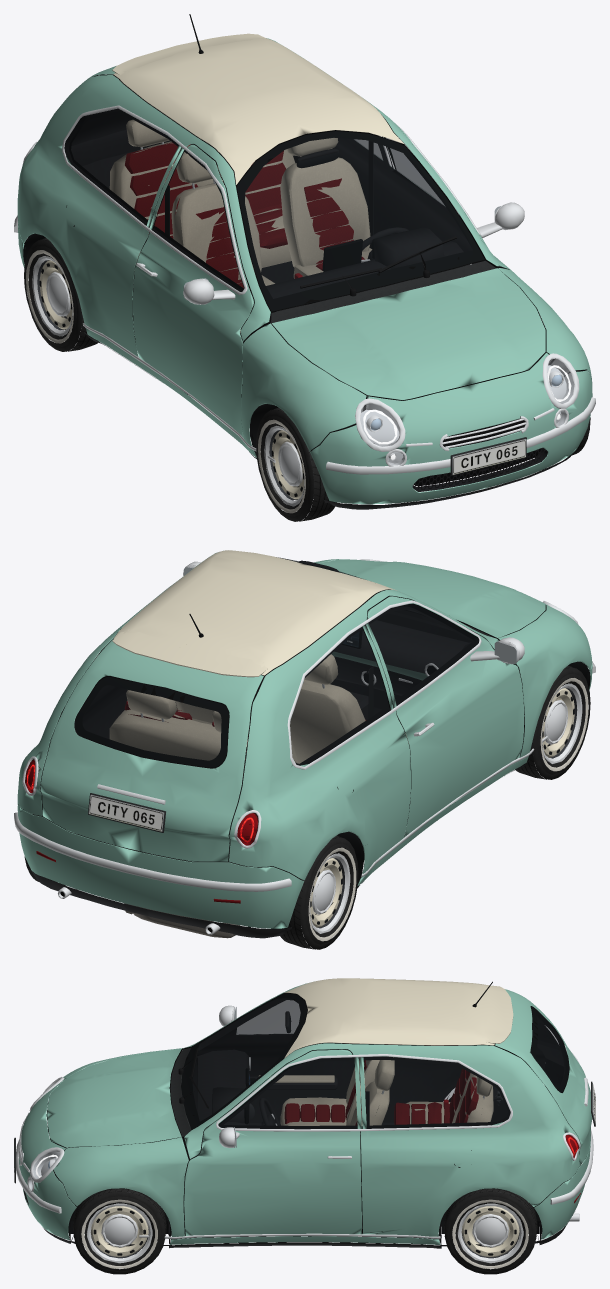
File: retro-city-car.glb
3 renders of one model, top to bottom at view 1: azimuth 30°, elevation 25°; view 2: azimuth 150°, elevation 25°; view 3: azimuth 270°, elevation 25°, orthographic. The views are drawn at different scales.
Visible parts, largest first — view 1: Body, Wheel_FR, Wheel_RR; view 2: Body, Wheel_RR, Wheel_FR; view 3: Body, Wheel_FL, Wheel_RL.
Boxes of the visible parts, box(x1,y1,x2,y2) form: Body: box(14, 14, 595, 509); Wheel_FR: box(256, 407, 337, 521); Wheel_RR: box(24, 238, 98, 351); Body: box(14, 550, 595, 938); Wheel_RR: box(280, 835, 358, 949); Wheel_FR: box(515, 665, 590, 779); Body: box(14, 978, 595, 1248); Wheel_FL: box(73, 1188, 166, 1274); Wheel_RL: box(443, 1188, 537, 1274).
Size of the model in its own units: 1.92 by 1.64 by 3.59.
Materials: 55 (10 with a texture image).
